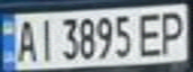3: (57, 14, 81, 62)
5: (112, 11, 139, 58)
8: (75, 14, 96, 61)
9: (93, 12, 118, 61)
A: (12, 16, 39, 64)
E: (136, 9, 166, 57)
I: (33, 15, 57, 63)
P: (154, 7, 190, 55)
